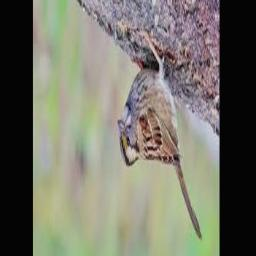Sparrow: (118, 30, 203, 240)
